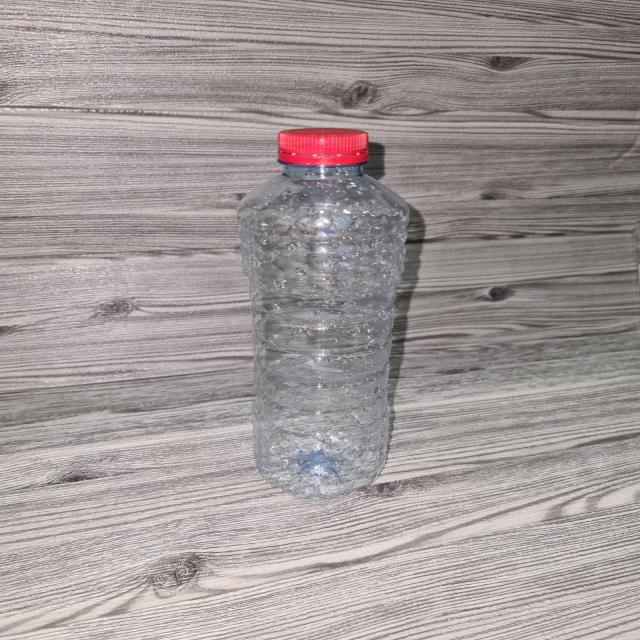bottle: (221, 119, 436, 515)
